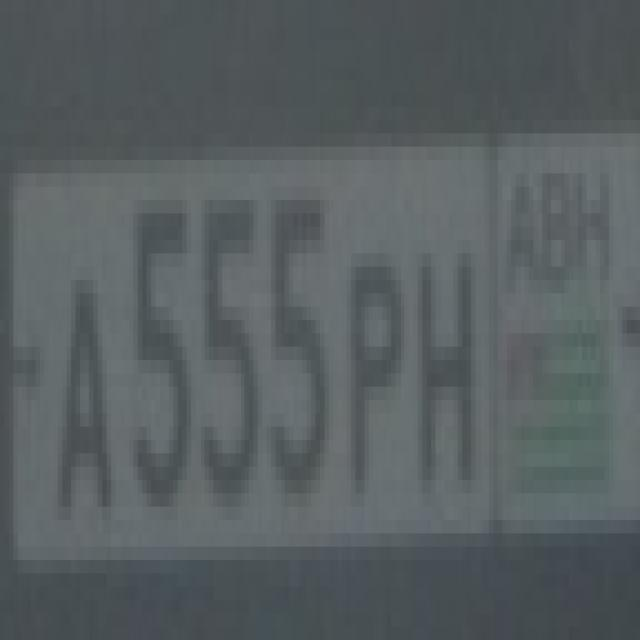5: (244, 160, 338, 493), (106, 174, 200, 494), (182, 160, 262, 493)
A: (40, 240, 111, 507)
H: (400, 213, 484, 480)
P: (333, 214, 409, 494)
